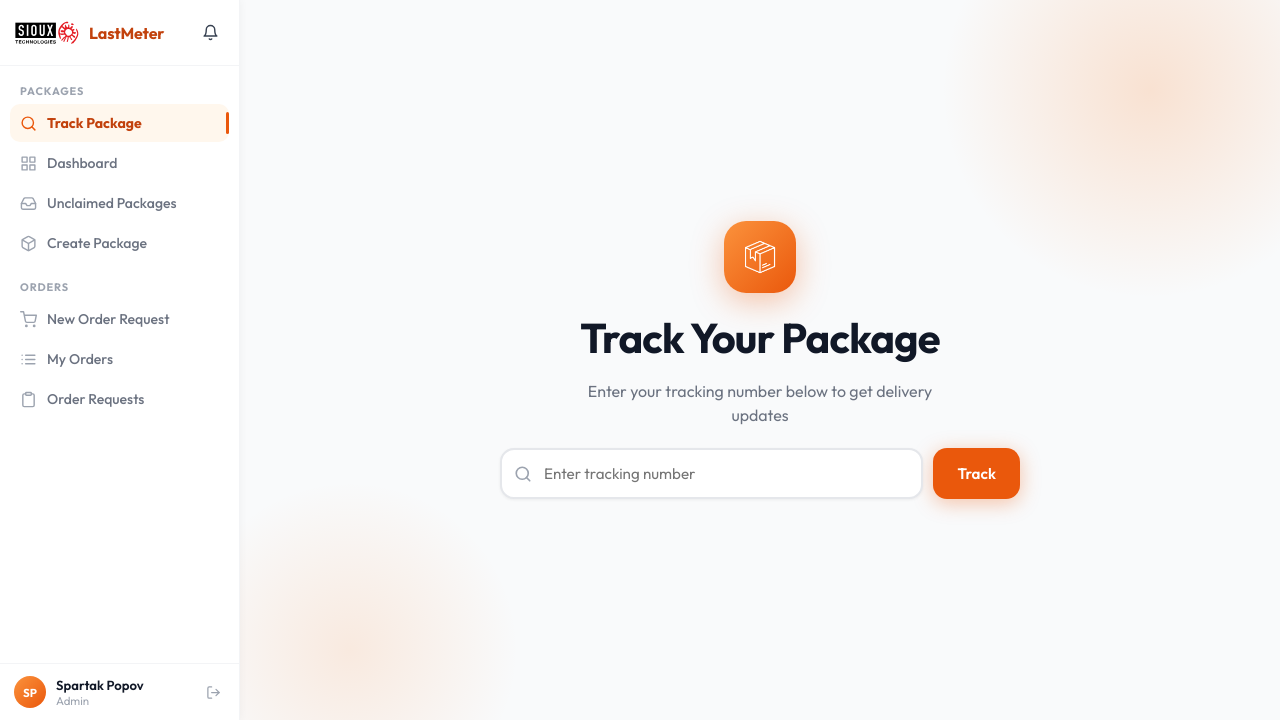
Scenario: RBAC — logout › logout clears localStorage and shows login page
The width and height of the screenshot is (1280, 720).
// The logout button is the icon button in the nav footer
Click the button titled "Sign out" at (214, 692), box [202,680,225,704]
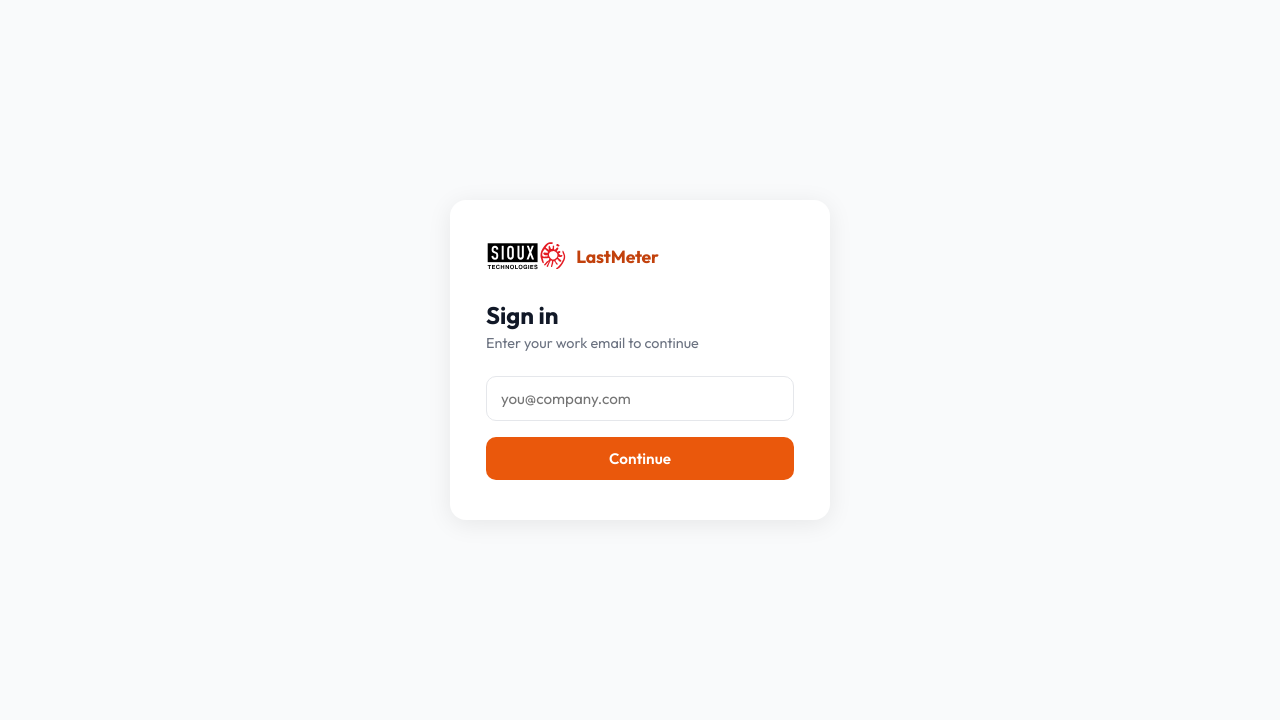
Result: the field with placeholder "you@company.com" is shown at [486,376,794,421]
